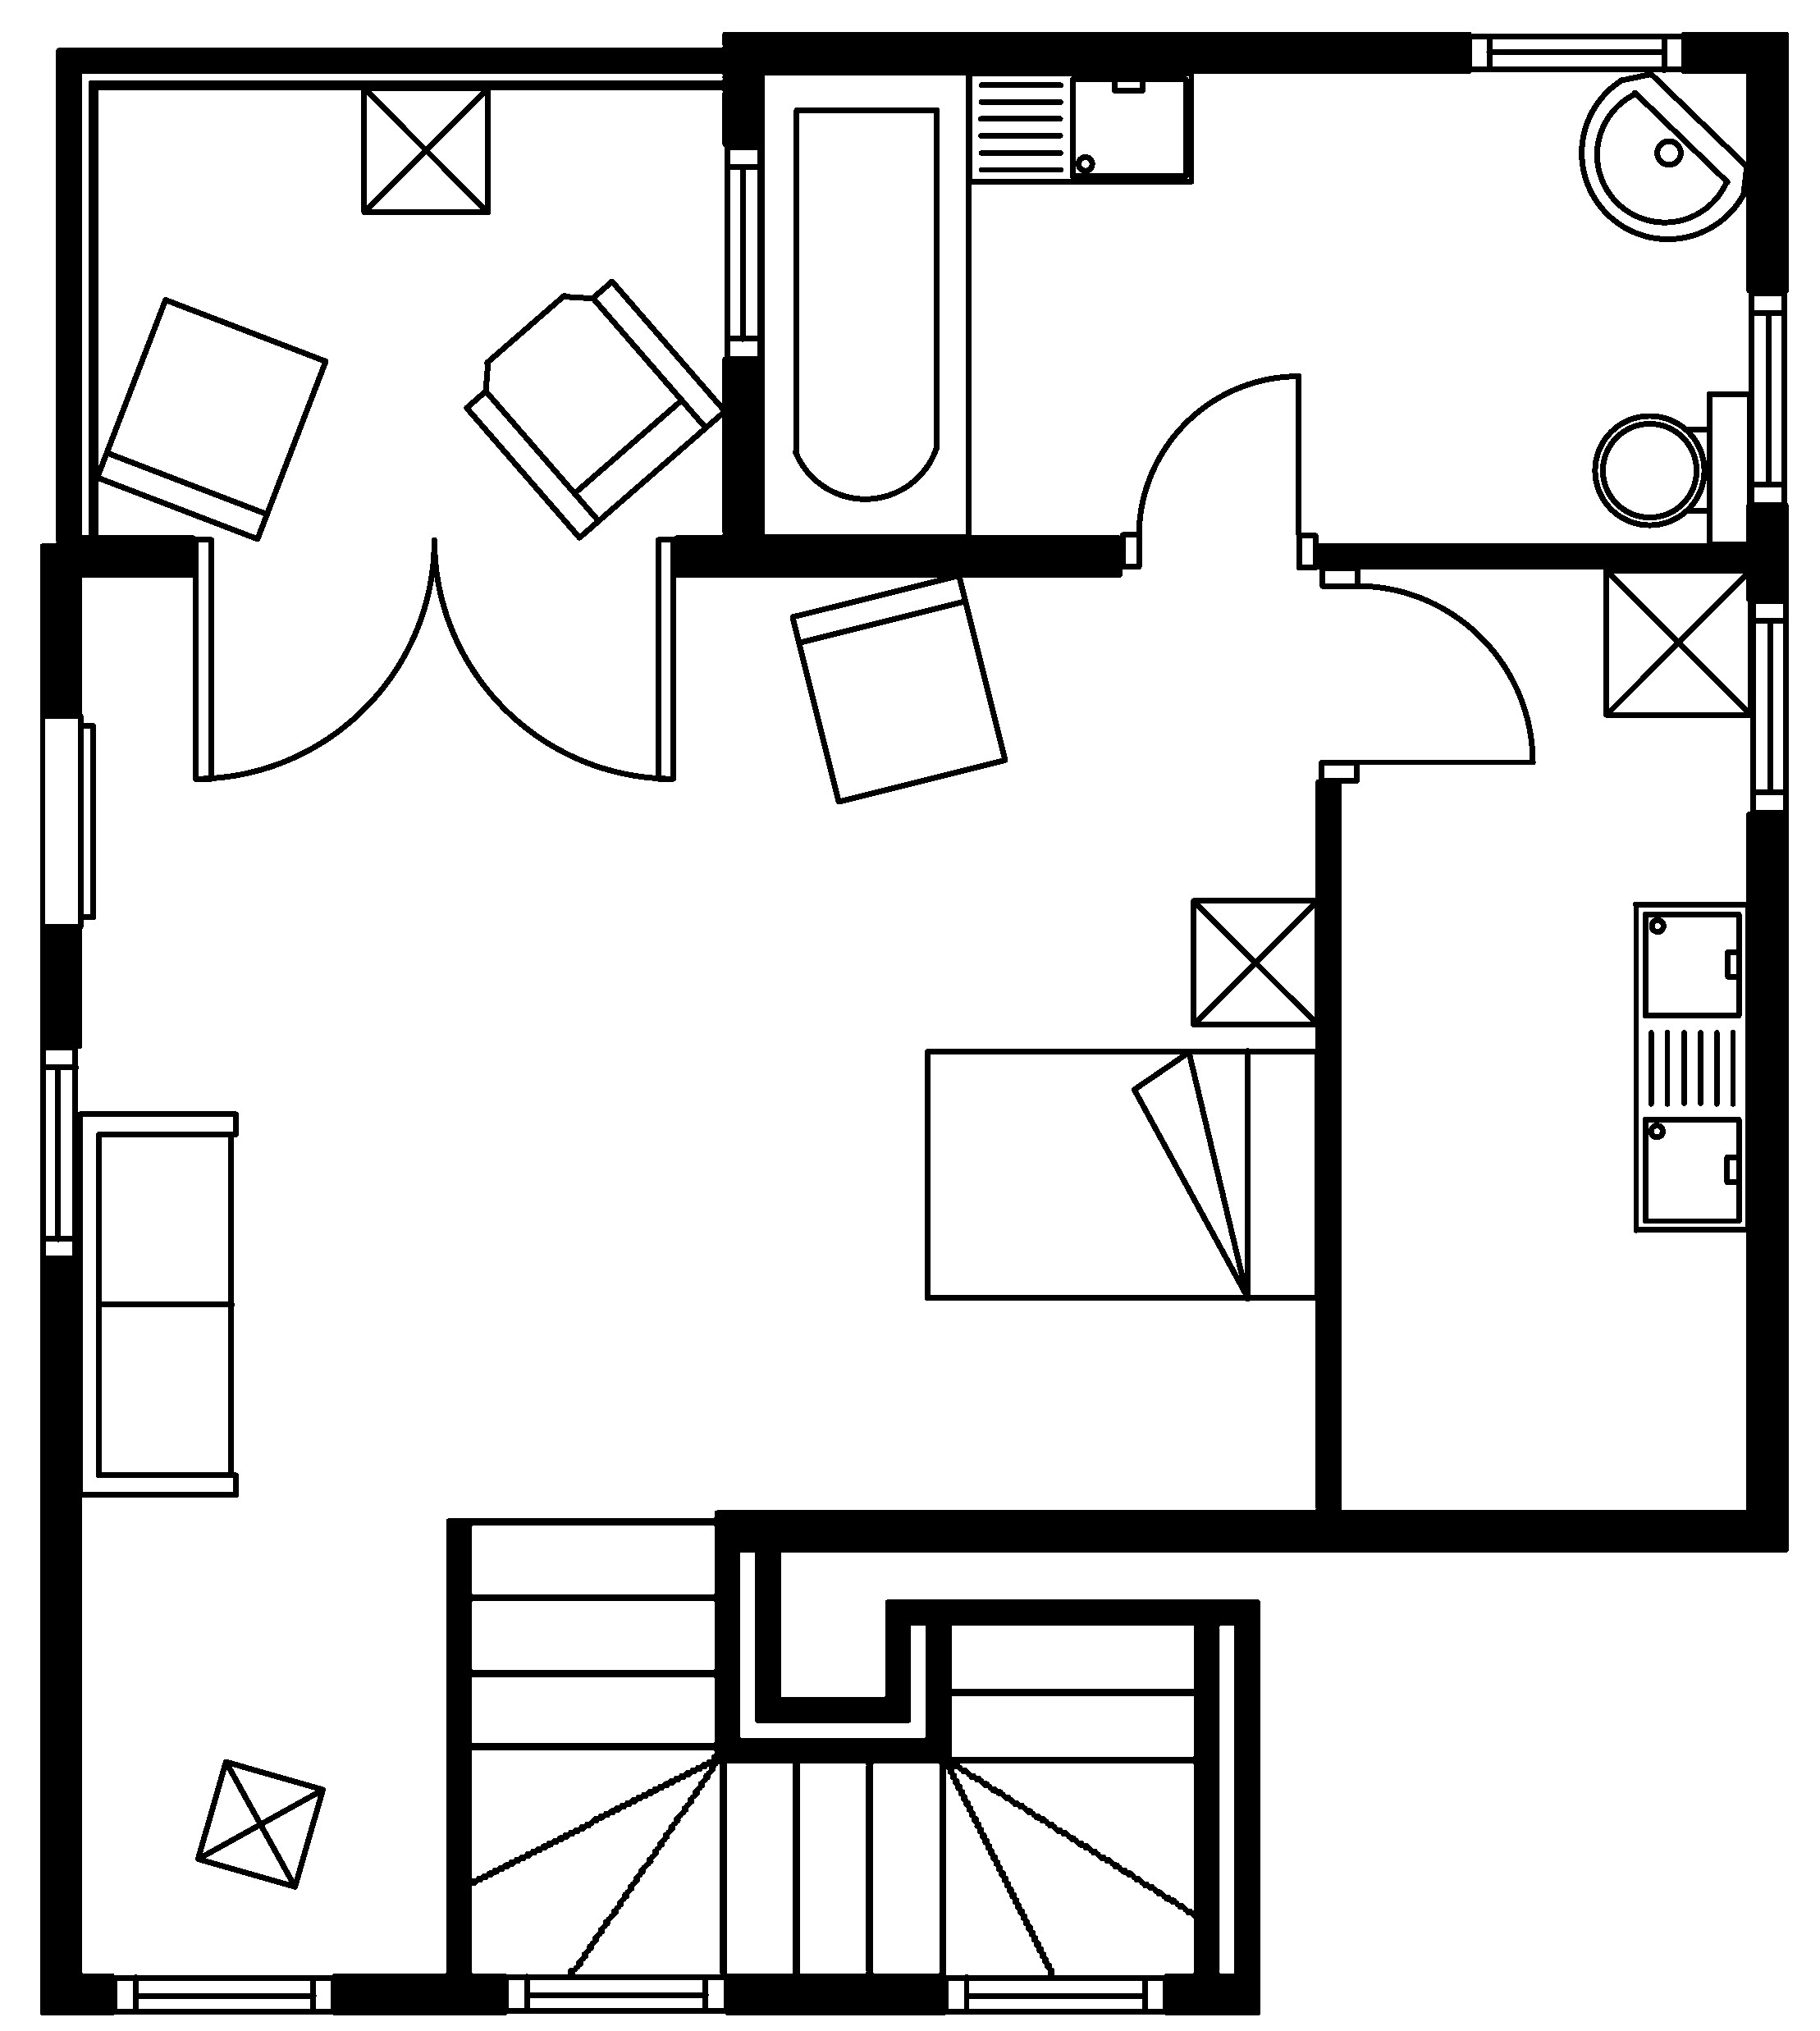armchair: (462, 276, 727, 541)
bed: (922, 1047, 1321, 1302)
coffee_table: (1602, 566, 1753, 719), (193, 1757, 325, 1890), (1189, 896, 1321, 1028), (360, 84, 490, 214)
large_sink: (1592, 388, 1753, 548)
large_sofa: (76, 1109, 239, 1497)
sink: (964, 69, 1195, 184)
small_sink: (1578, 70, 1750, 241)
small_sofa: (93, 295, 329, 543), (787, 571, 1008, 805)
tub: (757, 69, 971, 539)
twin_sink: (1630, 900, 1750, 1233)
